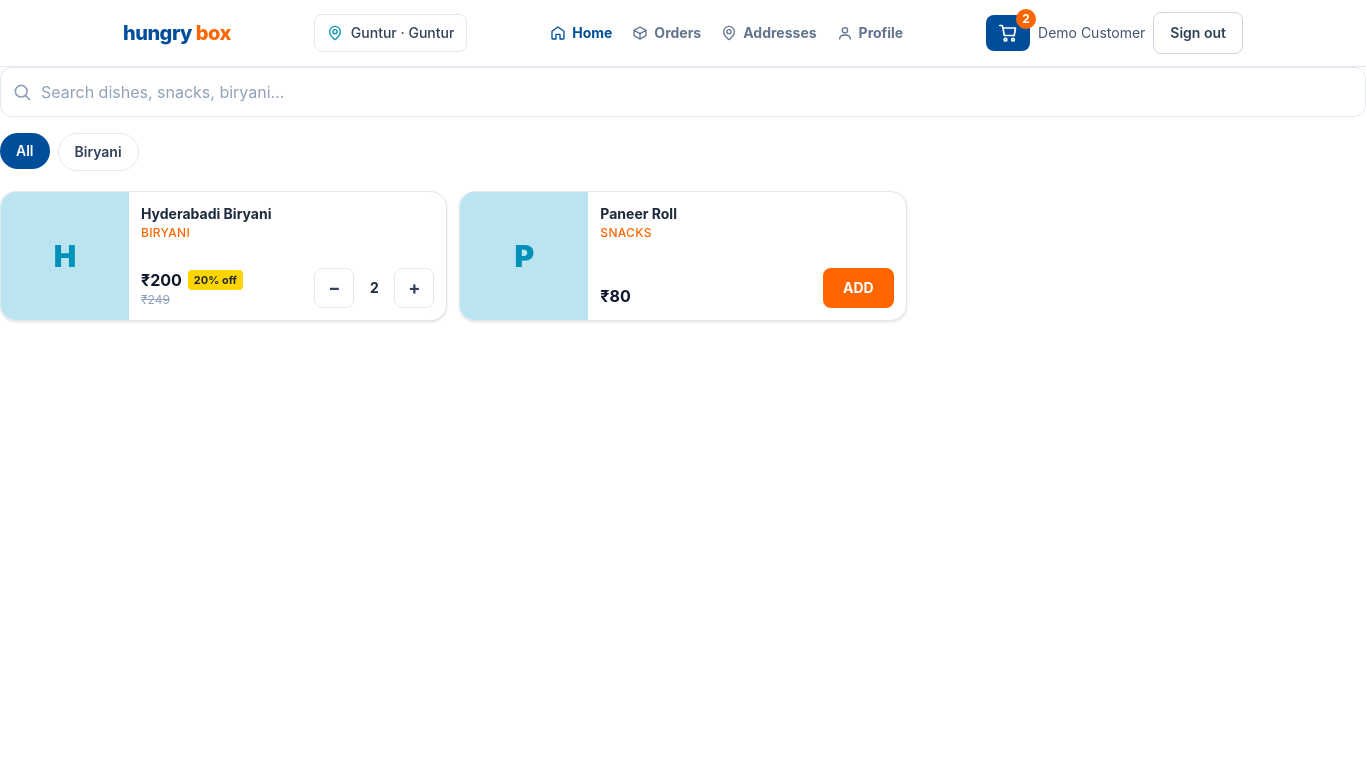
Test: cart › adjusts quantity and reflects the new server total
The image size is (1366, 768).
Click the button named "Open cart" at (1008, 33), box [986,15,1030,51]
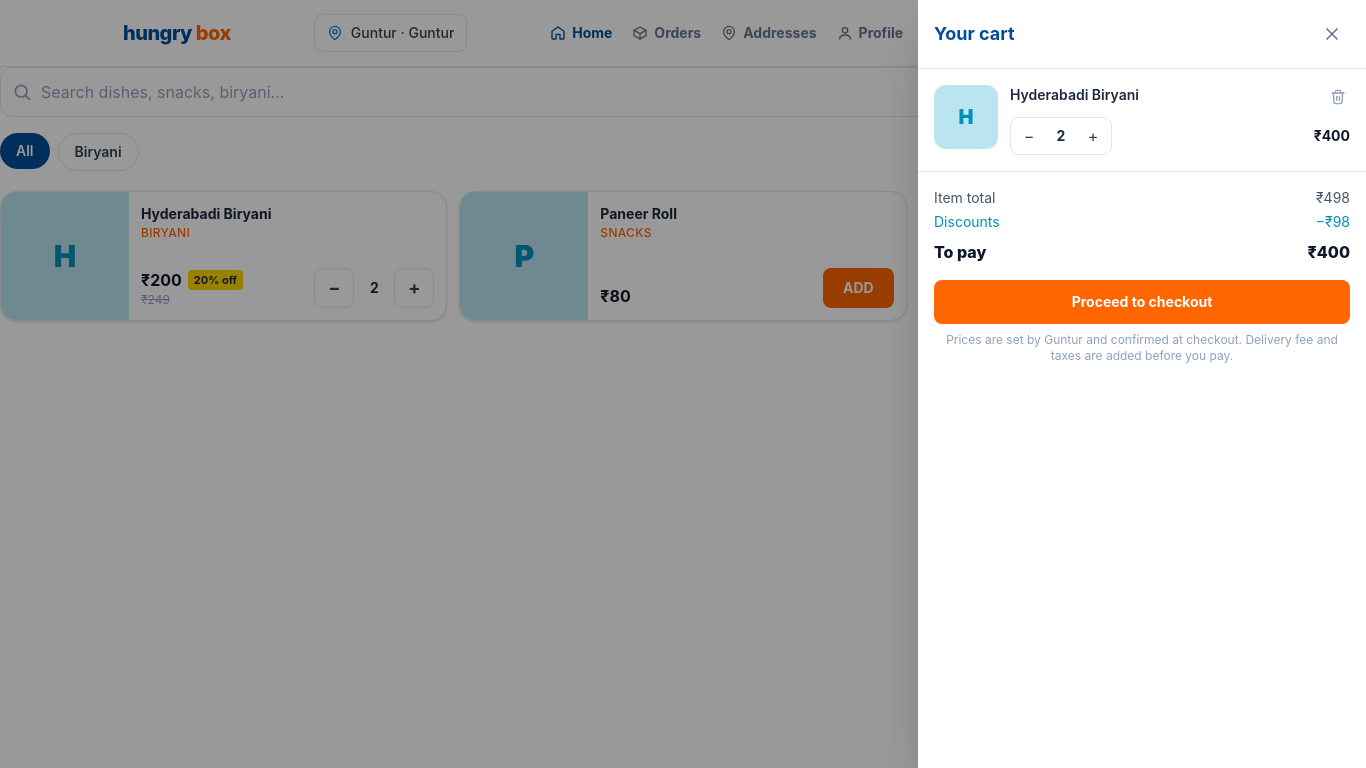
Click the button named "Increase Hyderabadi Biryani quantity" at (1093, 136), box [1075,118,1111,154]
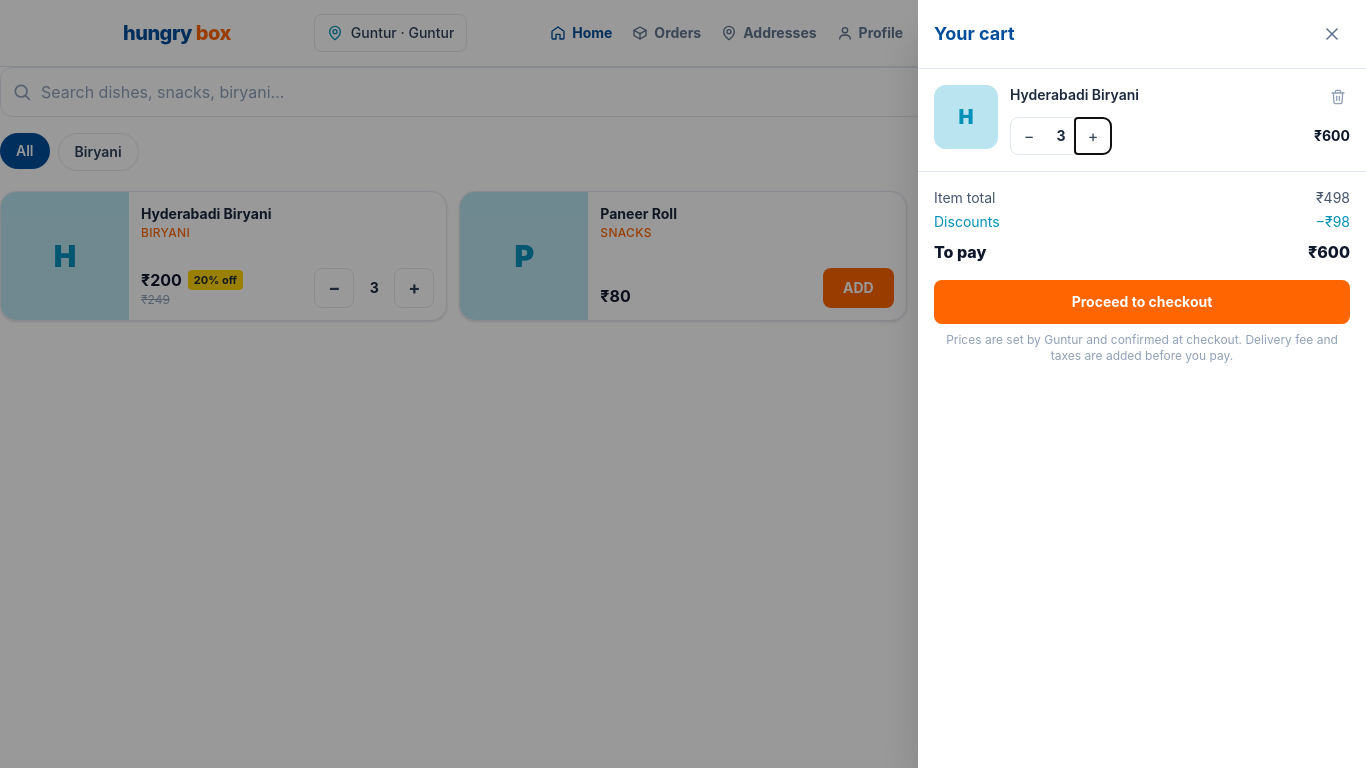
Now the 1st text "₹600" is shown, box [1314,126,1350,146]
